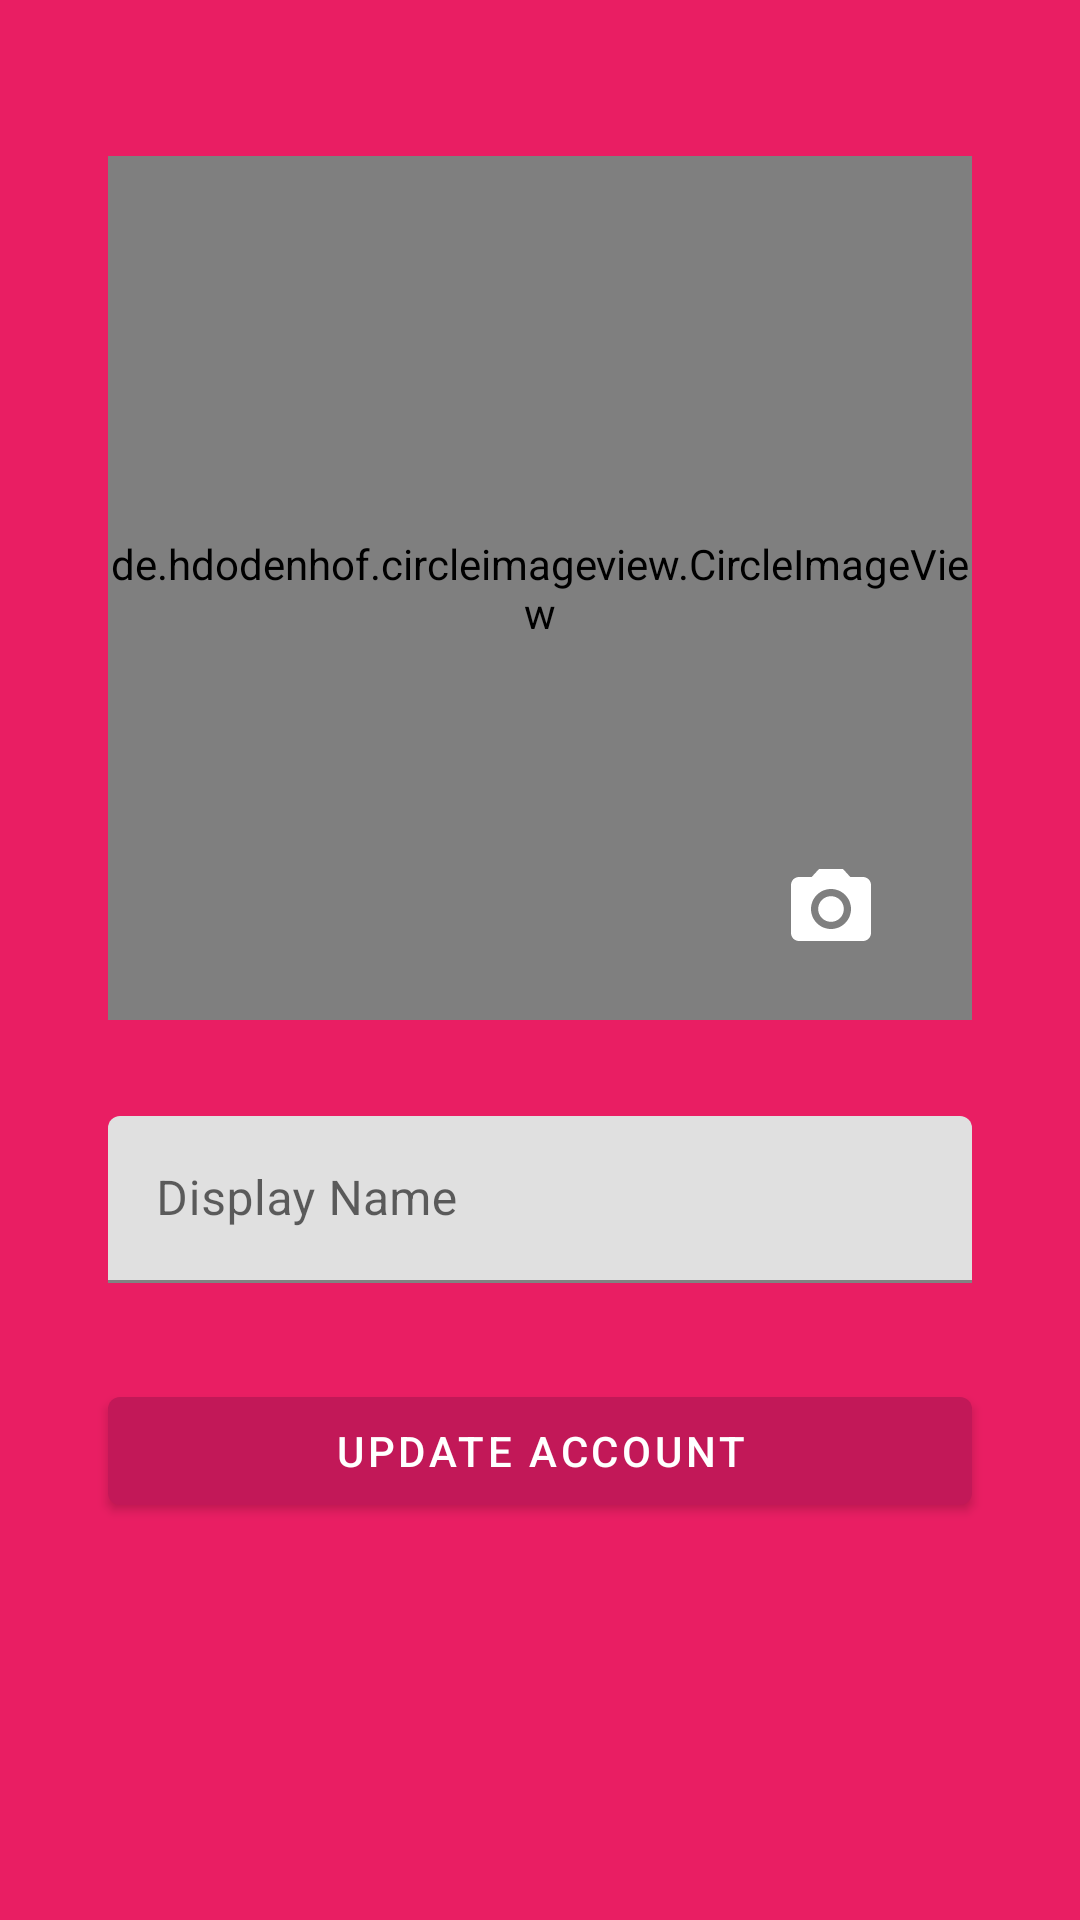

Named icons in this screenshot (1080 x 1920) and their bounding boxes, (x1, y1, x2, y2):
photo camera: (791, 869, 871, 941)
